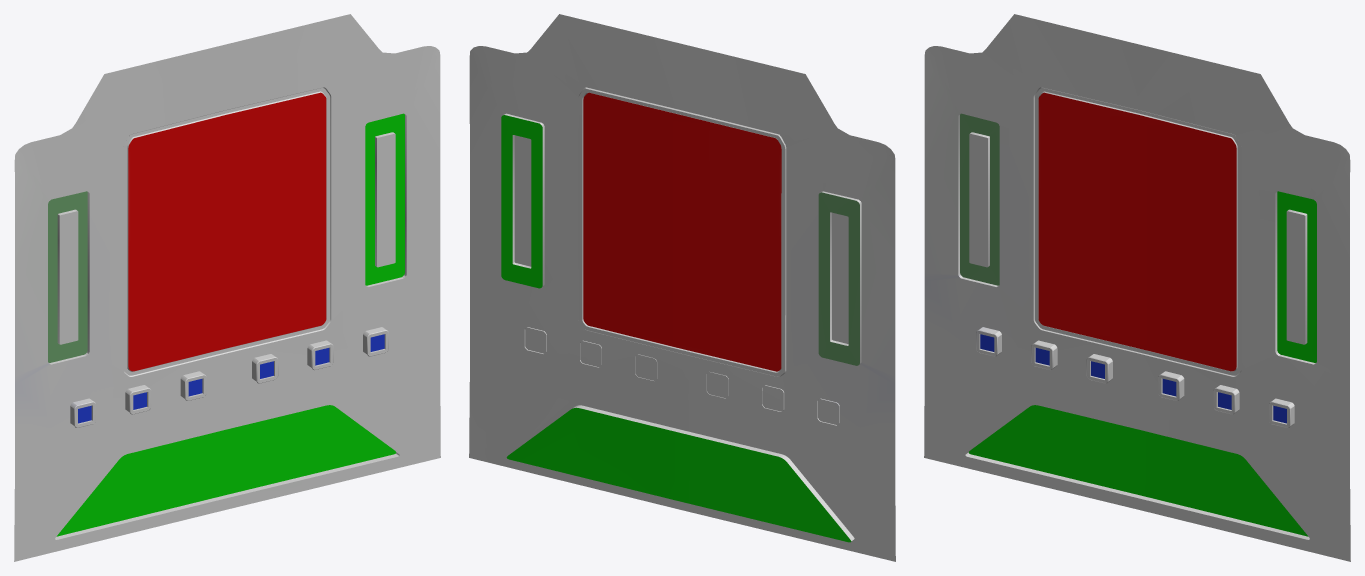
Rendered from Dead_end.fbx.
3 renders of one model, left to right at view 1: azimuth 30°, elevation 25°; view 2: azimuth 150°, elevation 25°; view 3: azimuth 330°, elevation 25°, orthographic.
Visible parts, largest first — view 1: dead_end; view 2: dead_end; view 3: dead_end.
Boxes of the visible parts, <box> form: dead_end: <box>14,14,440,561</box>; dead_end: <box>469,14,895,561</box>; dead_end: <box>924,14,1350,561</box>.
Bounding box in the file's own units: 285 × 297 × 9.48.
